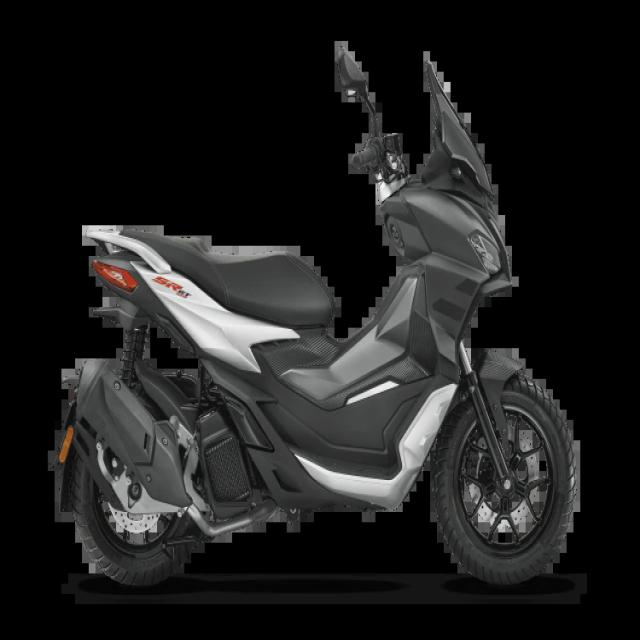Motorcycle: (56, 50, 574, 586)
